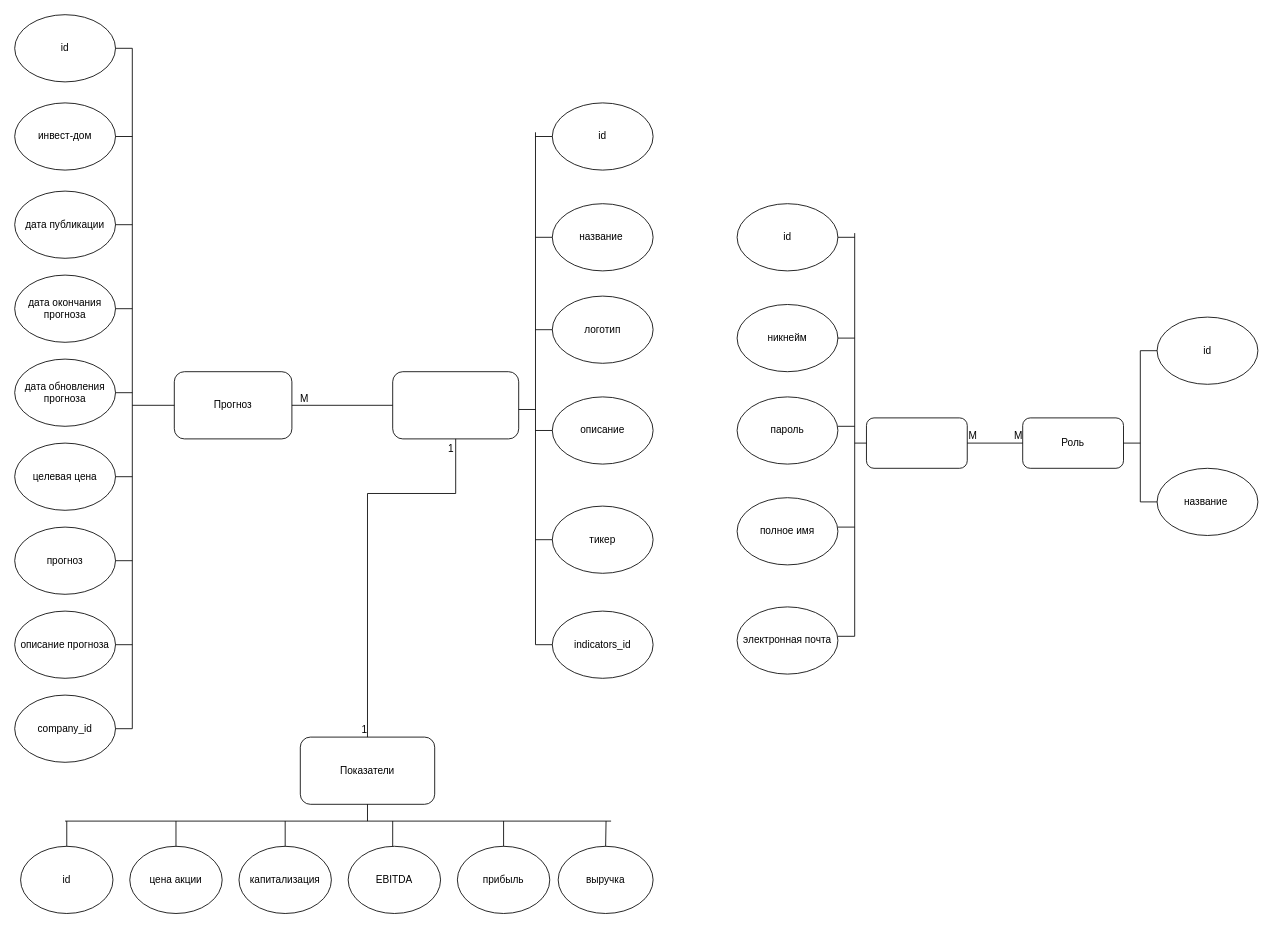
The diagram is 1273 pixels wide and 928 high, and some of its shapes have lost their labels. The shapes that lost their labels are listed below. From the top down, each one's centre as x and y in pixels, then its label:
the point at 455,405: Компания
the point at 916,442: Пользователь
